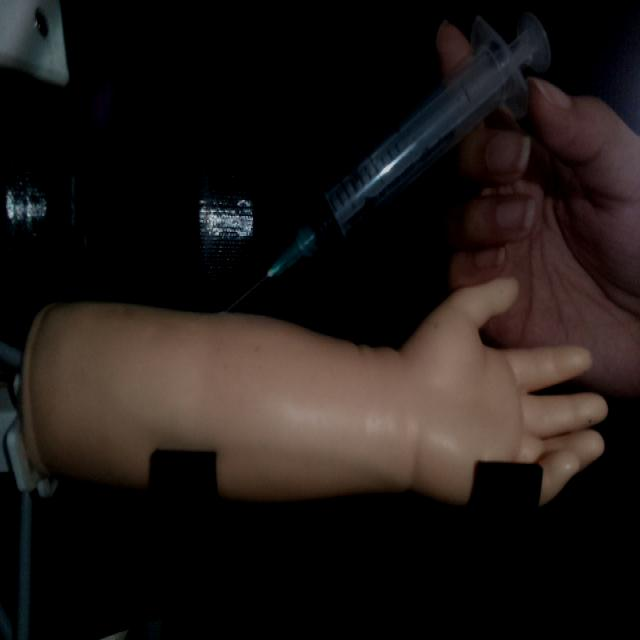Above 30 degrees: (220, 8, 553, 313)
